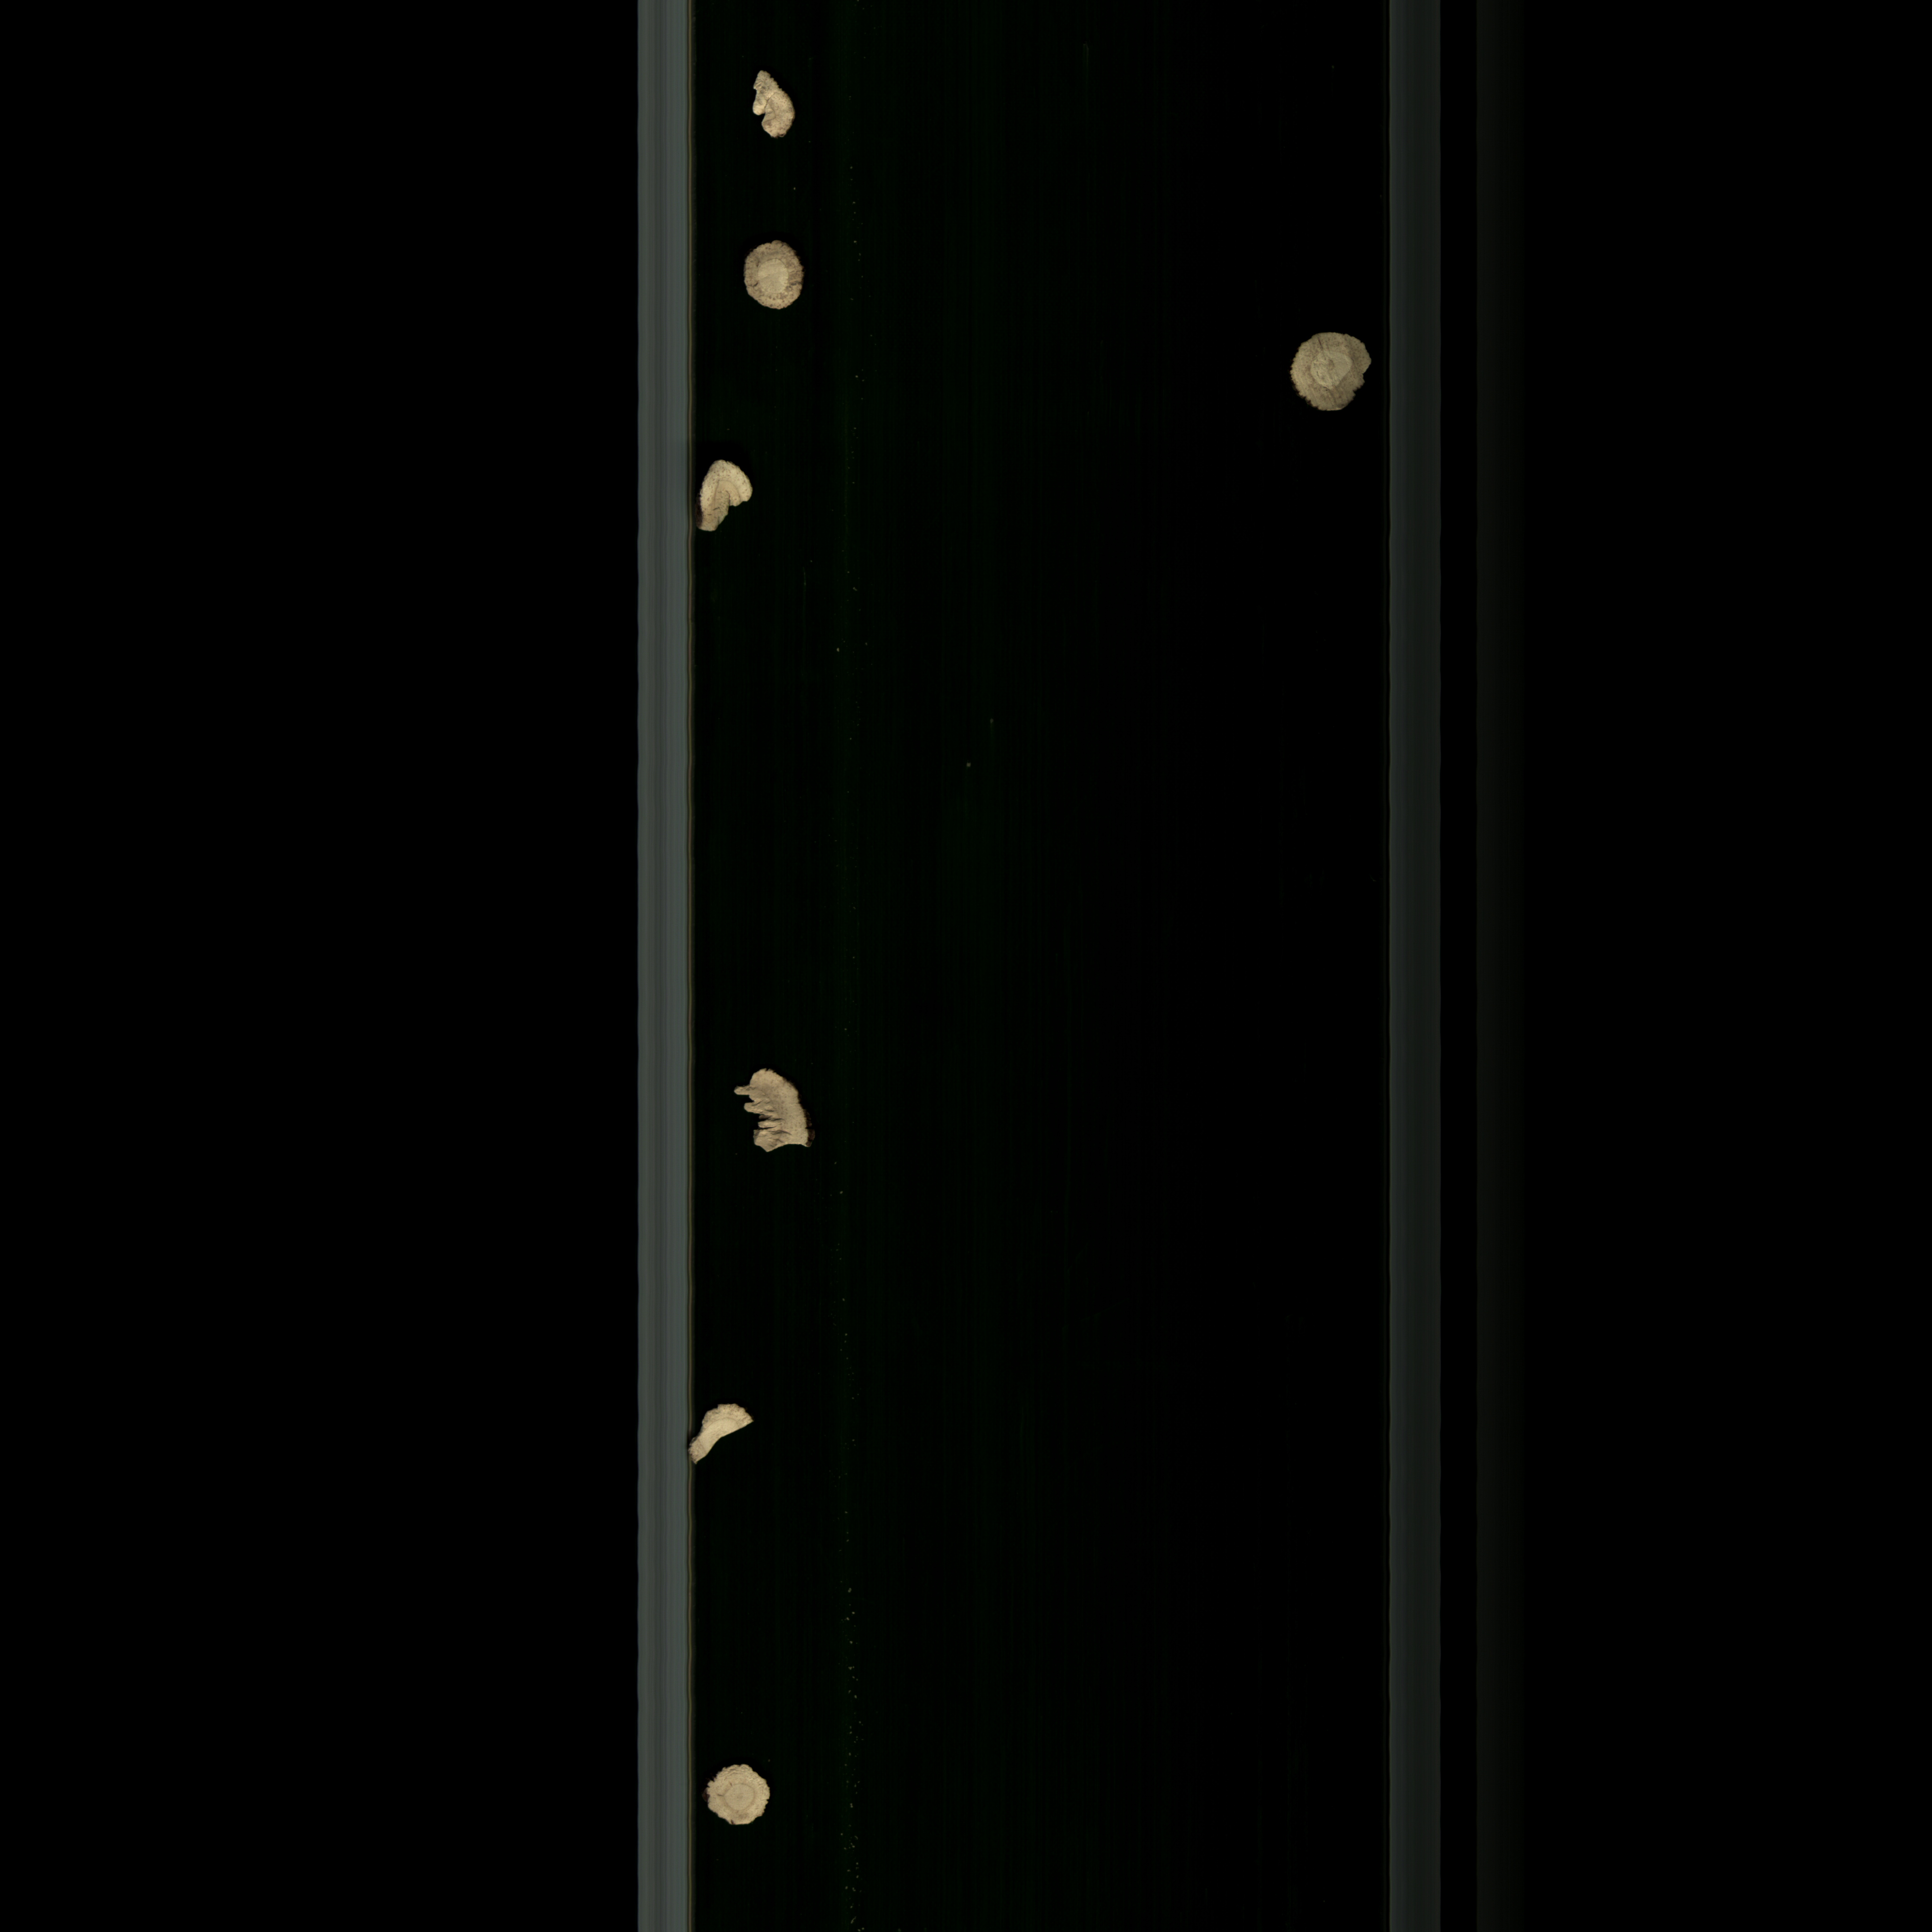debris: (725, 1062, 821, 1168), (695, 460, 770, 541), (740, 65, 810, 150)
dreg: (690, 1392, 763, 1476)
moldy: (1283, 326, 1380, 425), (740, 239, 816, 317)
